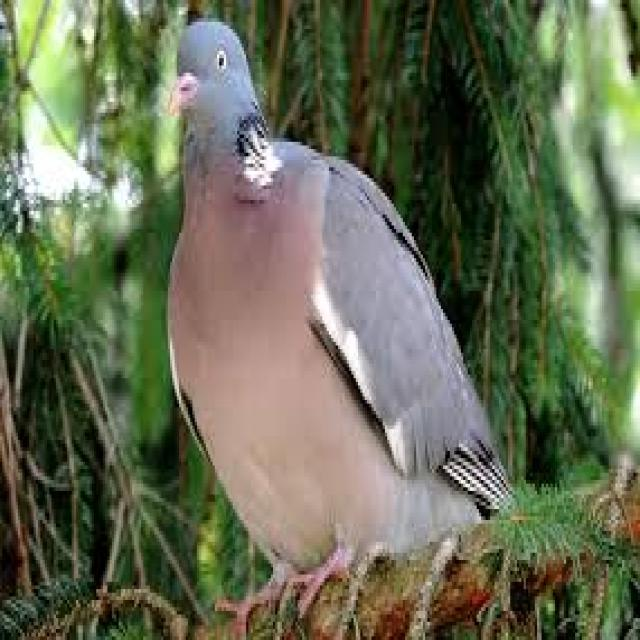pigeon: (137, 9, 538, 595)
